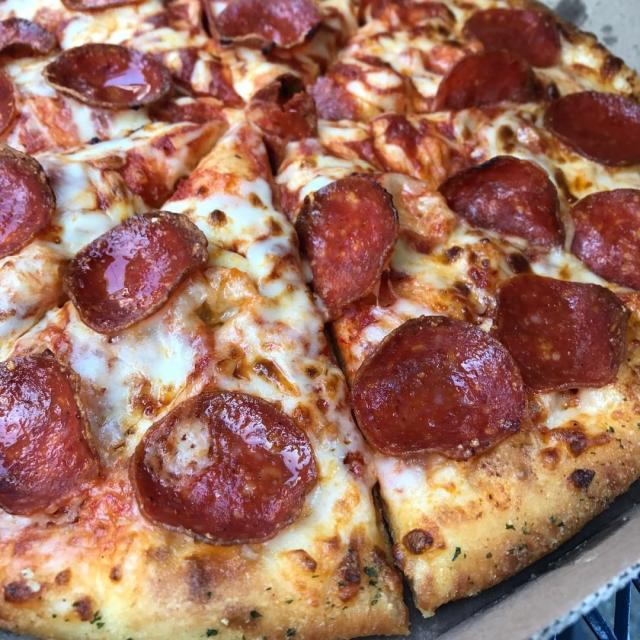pepperoni: (128, 386, 323, 548), (352, 315, 528, 462), (59, 208, 209, 336), (479, 274, 631, 394), (0, 347, 107, 517), (290, 171, 399, 310), (432, 152, 569, 250), (41, 40, 173, 110), (537, 86, 640, 171), (564, 185, 640, 292), (433, 48, 551, 112), (0, 143, 57, 262), (458, 5, 562, 70), (212, 0, 325, 52), (253, 90, 319, 139), (0, 17, 56, 59), (60, 0, 156, 15), (0, 64, 17, 141)
pizza: (0, 0, 640, 640)
